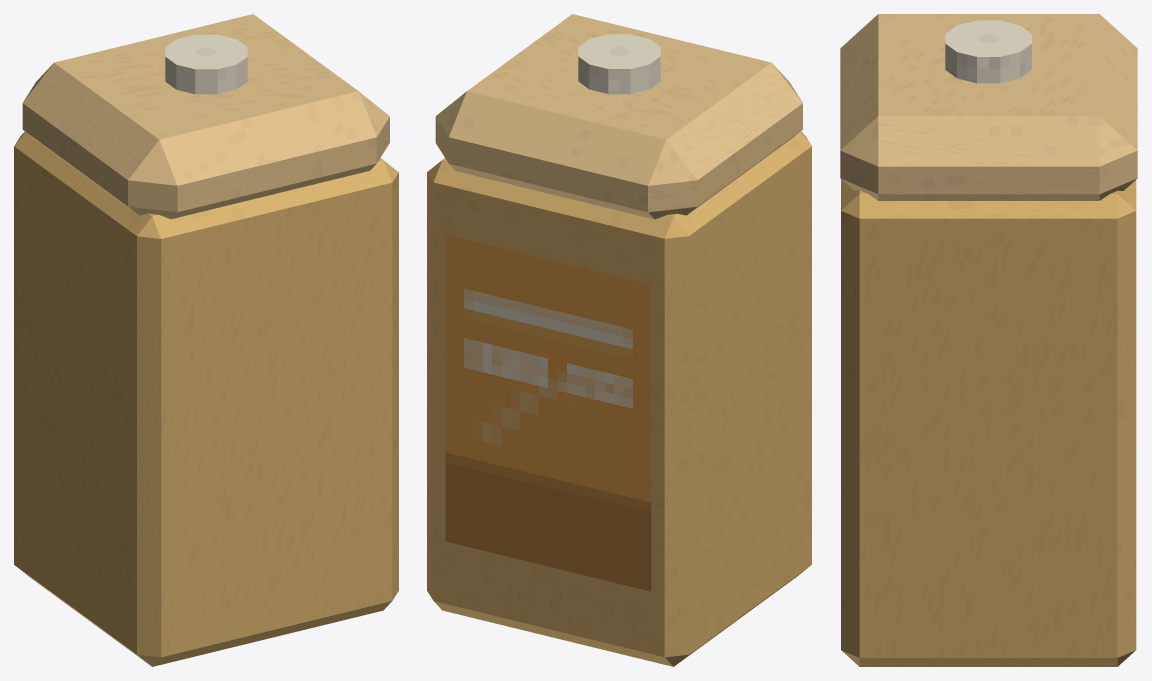
The picture shows the model from 3 angles, left to right: view 1: azimuth 30°, elevation 25°; view 2: azimuth 150°, elevation 25°; view 3: azimuth 270°, elevation 25°; orthographic projection. The views are drawn at different scales.
Parts seen in each view (by area): view 1: block_juice carton, block_folded carton top, block_carton cap; view 2: block_juice carton, block_orange juice label, block_folded carton top, block_carton cap; view 3: block_juice carton, block_folded carton top, block_carton cap.
Boxes of the visible parts, <box> form: block_juice carton: <box>14,131,398,666</box>; block_folded carton top: <box>22,14,389,219</box>; block_carton cap: <box>165,34,247,94</box>; block_juice carton: <box>427,131,811,666</box>; block_orange juice label: <box>445,234,651,591</box>; block_folded carton top: <box>435,14,802,219</box>; block_carton cap: <box>578,34,660,94</box>; block_juice carton: <box>841,179,1136,666</box>; block_folded carton top: <box>840,14,1137,200</box>; block_carton cap: <box>945,20,1031,83</box>.
Bounding box in the file's own units: 0.0653 × 0.1291 × 0.0612.
Materials: 1 (1 with a texture image).
